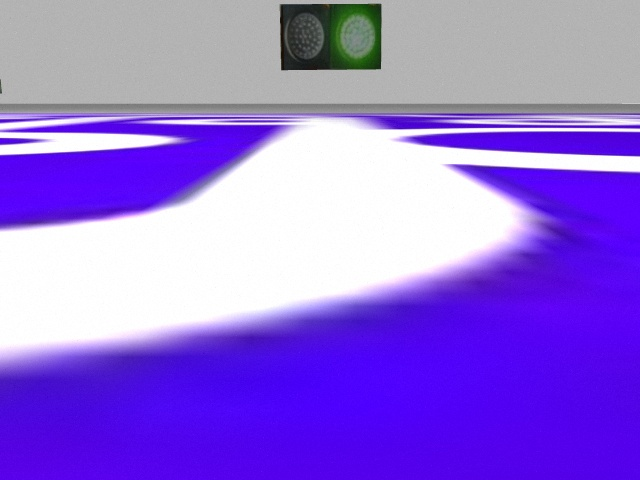green: (328, 3, 382, 67)
